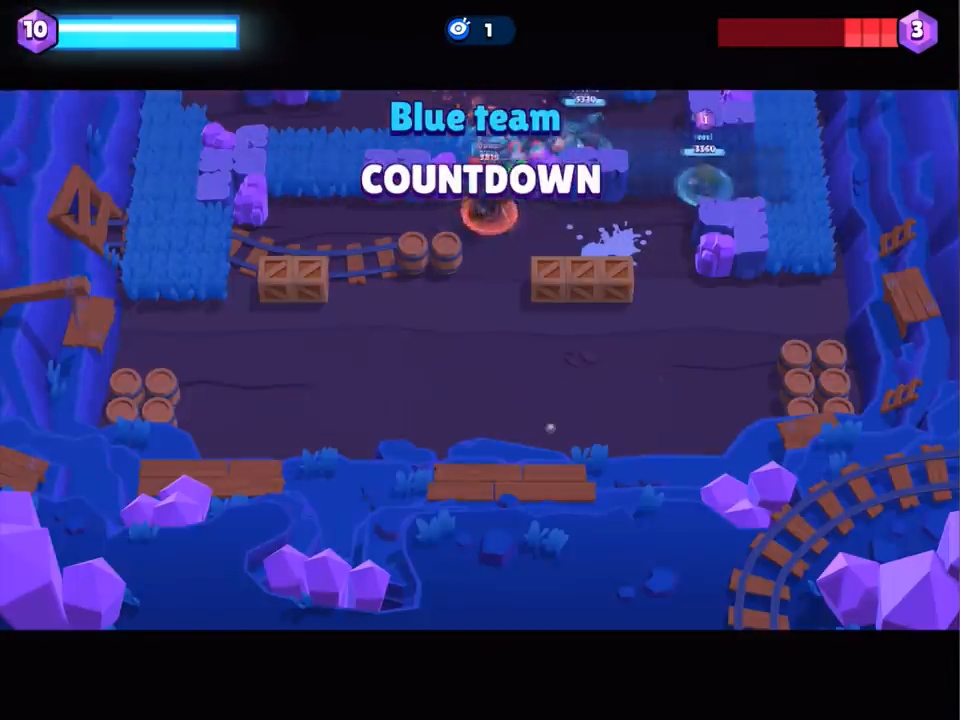red: (443, 155, 541, 232)
